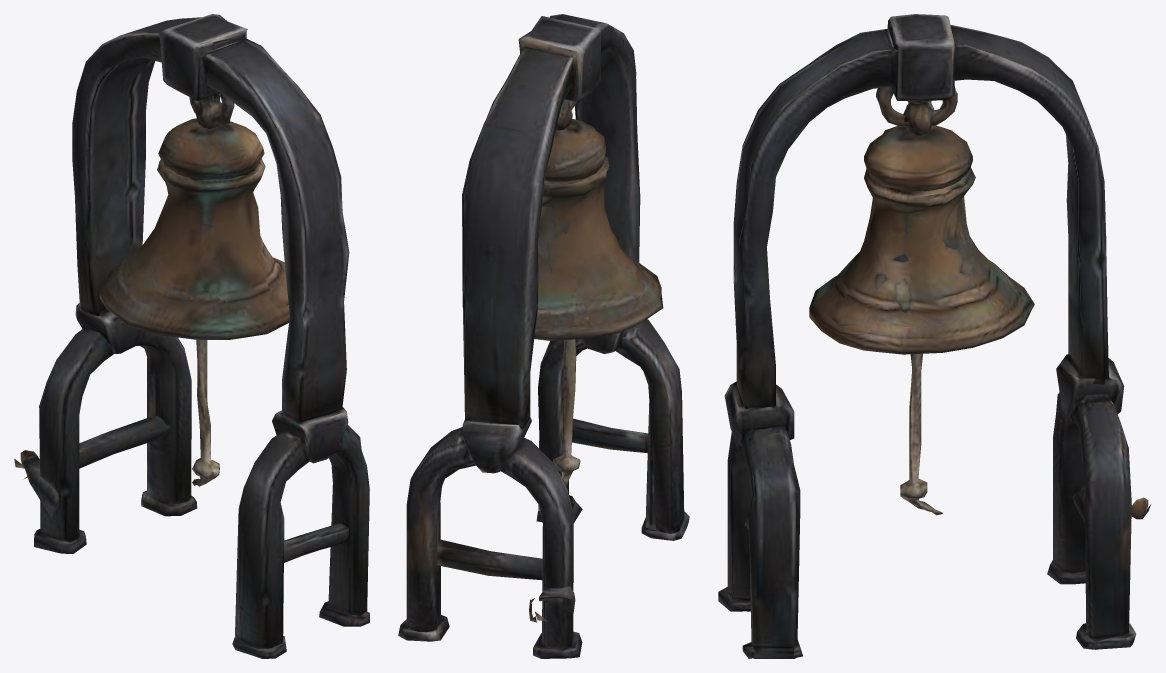
The model's file is fj_sino.glb.
The picture shows the model from 3 angles, left to right: view 1: azimuth 30°, elevation 25°; view 2: azimuth 150°, elevation 25°; view 3: azimuth 270°, elevation 25°; orthographic projection. The views are drawn at different scales.
Parts seen in each view (by area): view 1: Mesh_0.3913; view 2: Mesh_0.3913; view 3: Mesh_0.3913.
Part boxes in pixels (x1=…): Mesh_0.3913: x1=14, y1=14, x2=369, y2=658; Mesh_0.3913: x1=398, y1=14, x2=689, y2=658; Mesh_0.3913: x1=718, y1=14, x2=1150, y2=658.
Size of the model in its own units: 0.1406 by 0.4209 by 0.2793.
Materials: 1 (1 with a texture image).
